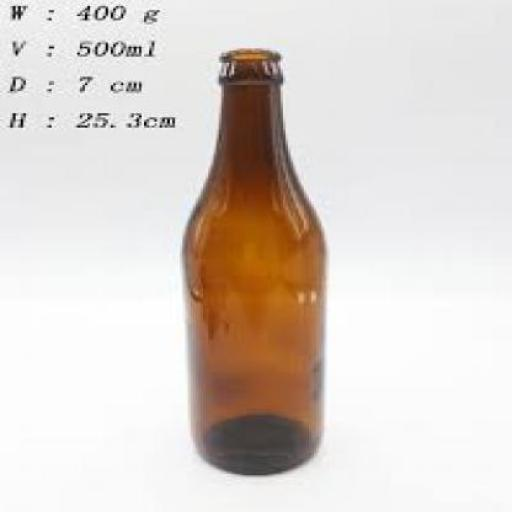glass: (180, 48, 324, 474)
